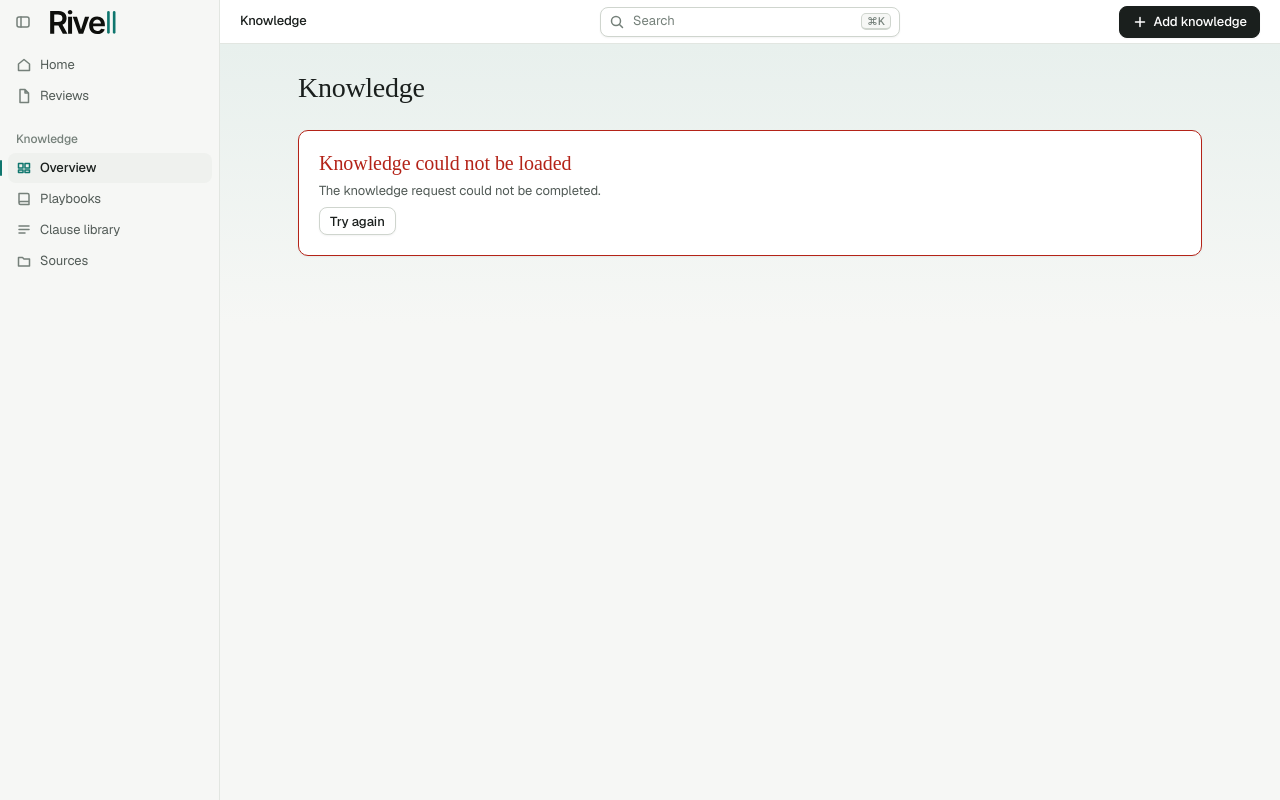
Test: loading, error and permission states › recovers from a failed read with retry
Expected: the message shows "Knowledge could not be loaded", [319,152,572,174]
Click the button "Try again".
click(357, 221)  # box [319,207,396,235]
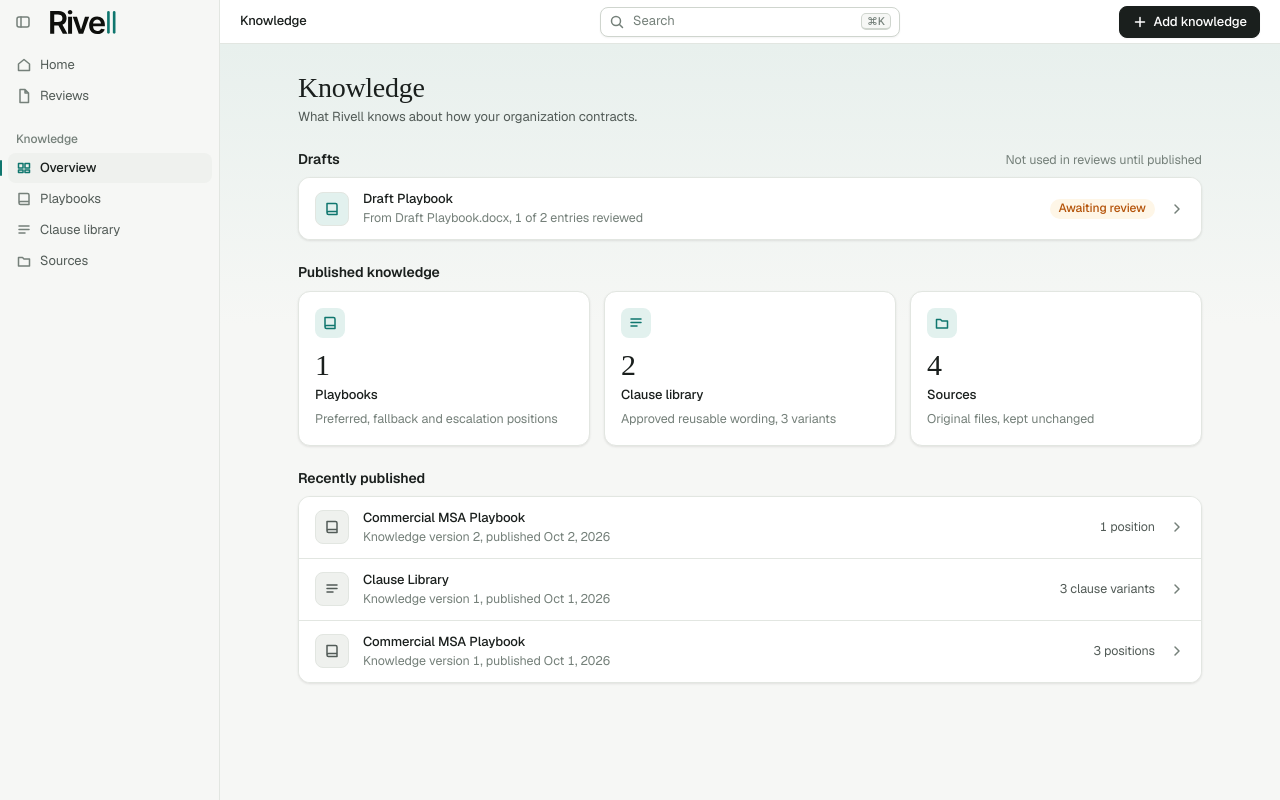
Now the heading "Recently published" is shown, box [298,468,425,488]
